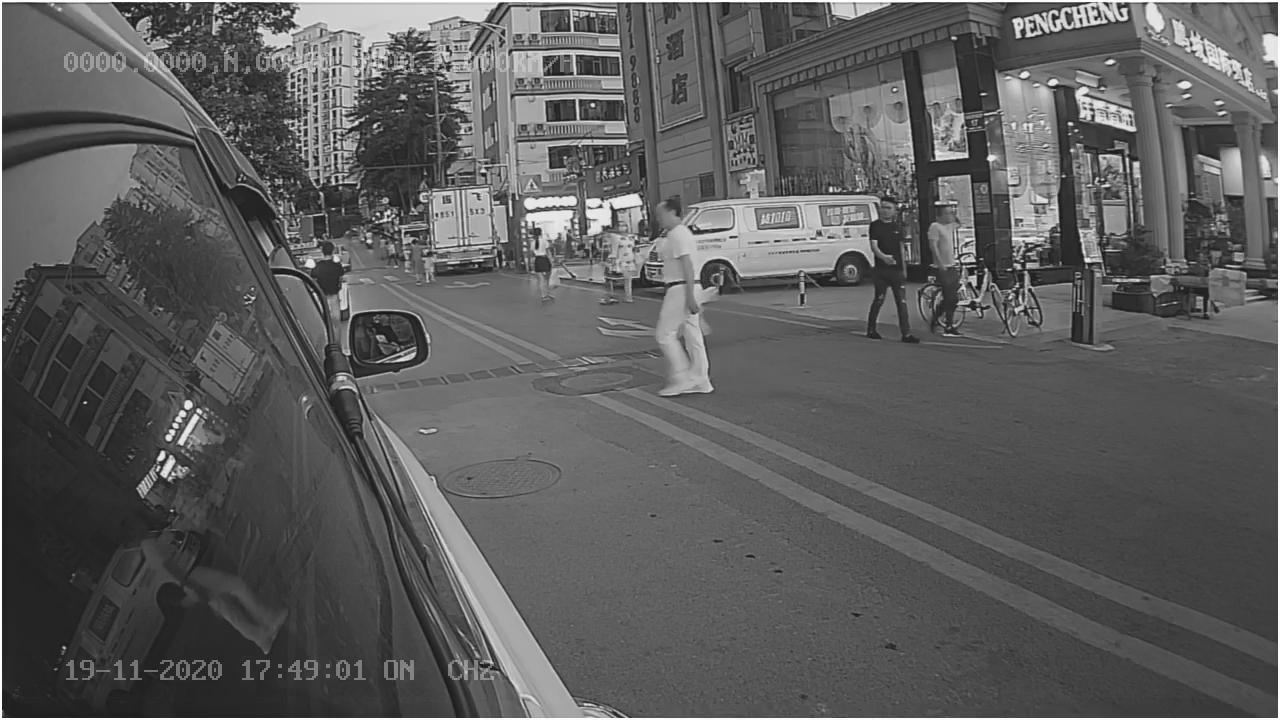person: (639, 191, 724, 403)
